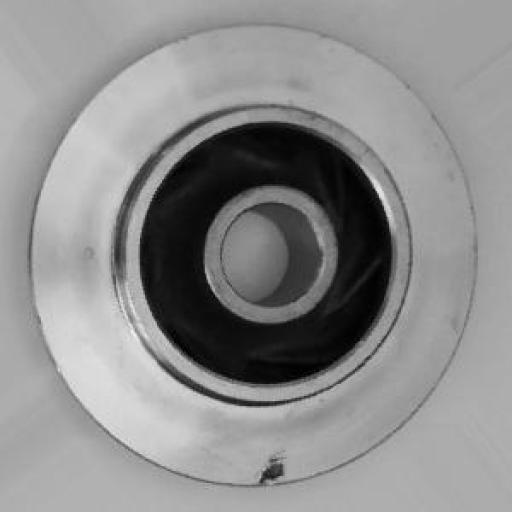defect: (226, 433, 318, 504)
